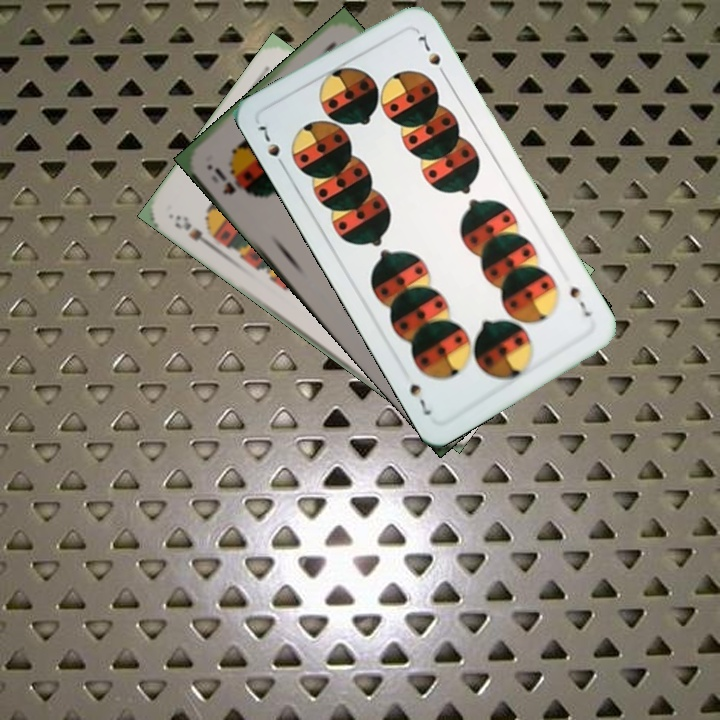S7: (253, 121, 289, 173), (565, 282, 594, 320)
S9: (171, 210, 218, 253)
SO: (210, 163, 253, 201)
